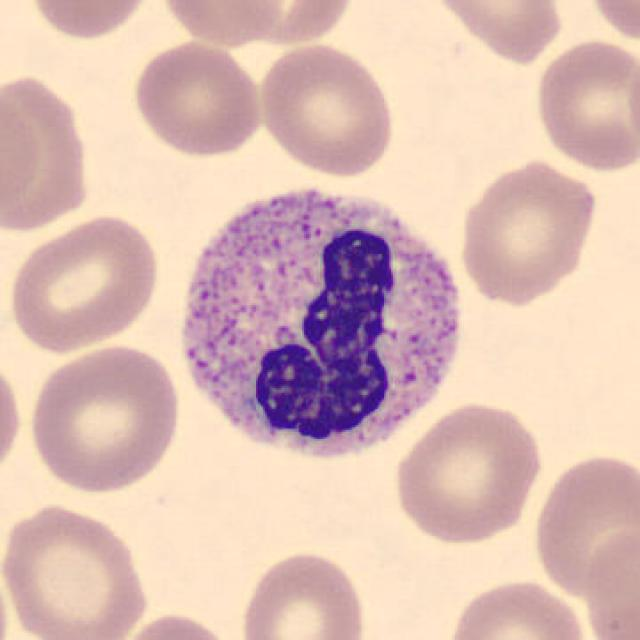Neutrophil: (167, 169, 473, 482)
RBC: (25, 340, 185, 496), (3, 210, 164, 356), (389, 398, 546, 546), (455, 155, 599, 305), (0, 499, 153, 640), (254, 39, 398, 178), (128, 37, 268, 159), (528, 448, 638, 601), (0, 72, 95, 233), (530, 35, 638, 175), (234, 546, 371, 640), (443, 575, 592, 640), (427, 0, 569, 65), (579, 522, 640, 640), (154, 0, 289, 49), (224, 0, 357, 48), (23, 0, 158, 42), (110, 610, 240, 640), (0, 351, 25, 486), (581, 0, 640, 46), (626, 36, 640, 168)
